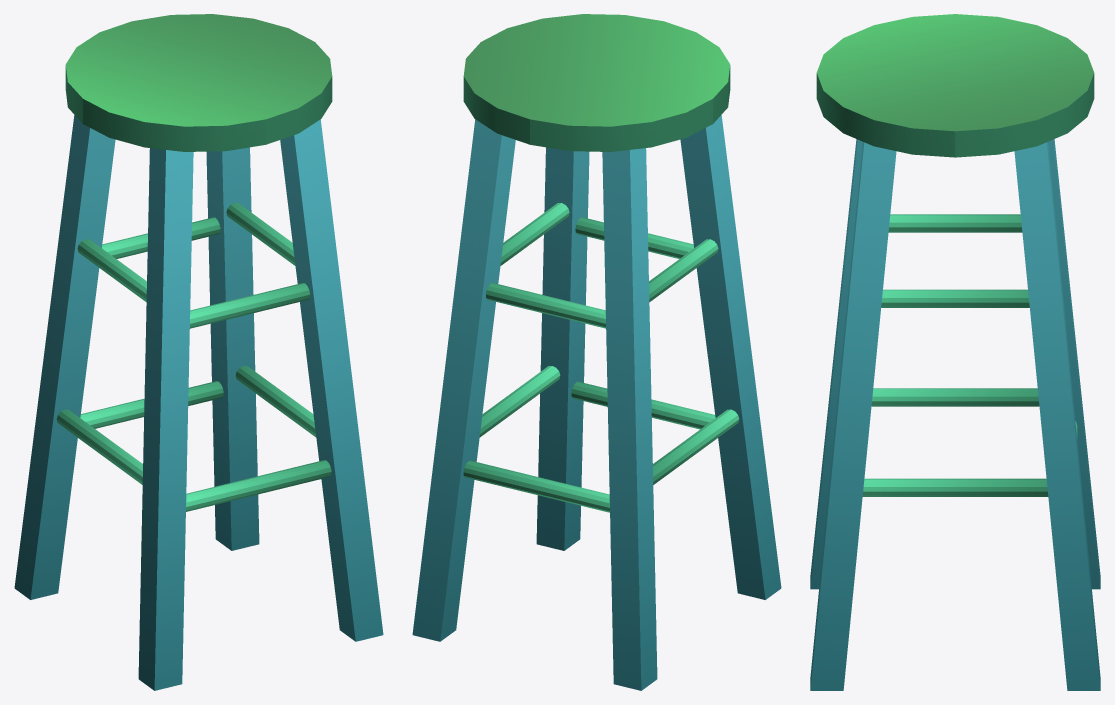
File: PROP_stool.fbx
3 renders of one model, left to right at view 1: azimuth 30°, elevation 25°; view 2: azimuth 150°, elevation 25°; view 3: azimuth 270°, elevation 25°, orthographic. The views are drawn at different scales.
Parts seen in each view (by area): view 1: PROP_stool; view 2: PROP_stool; view 3: PROP_stool.
Part boxes in pixels (x1,y1,x2,y2): PROP_stool: (14, 14, 383, 690); PROP_stool: (412, 14, 781, 690); PROP_stool: (810, 14, 1100, 690).
Bounding box in the file's own units: 38.04 × 84.76 × 39.75.
